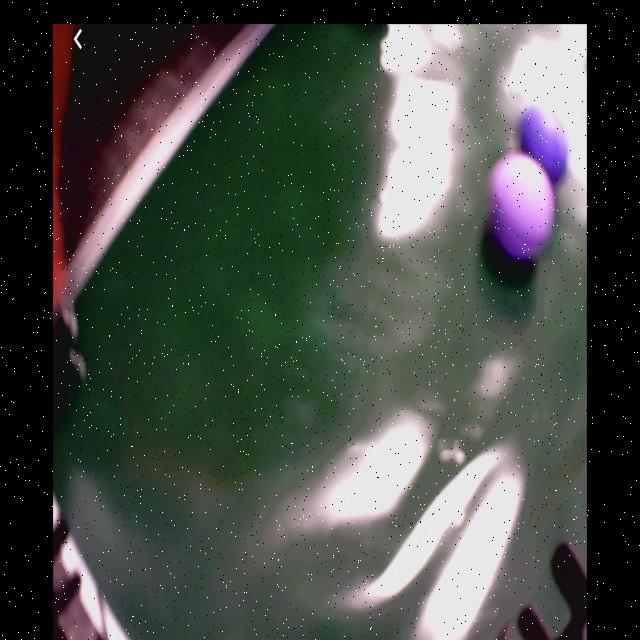ball: (489, 155, 556, 260), (520, 106, 570, 189)
